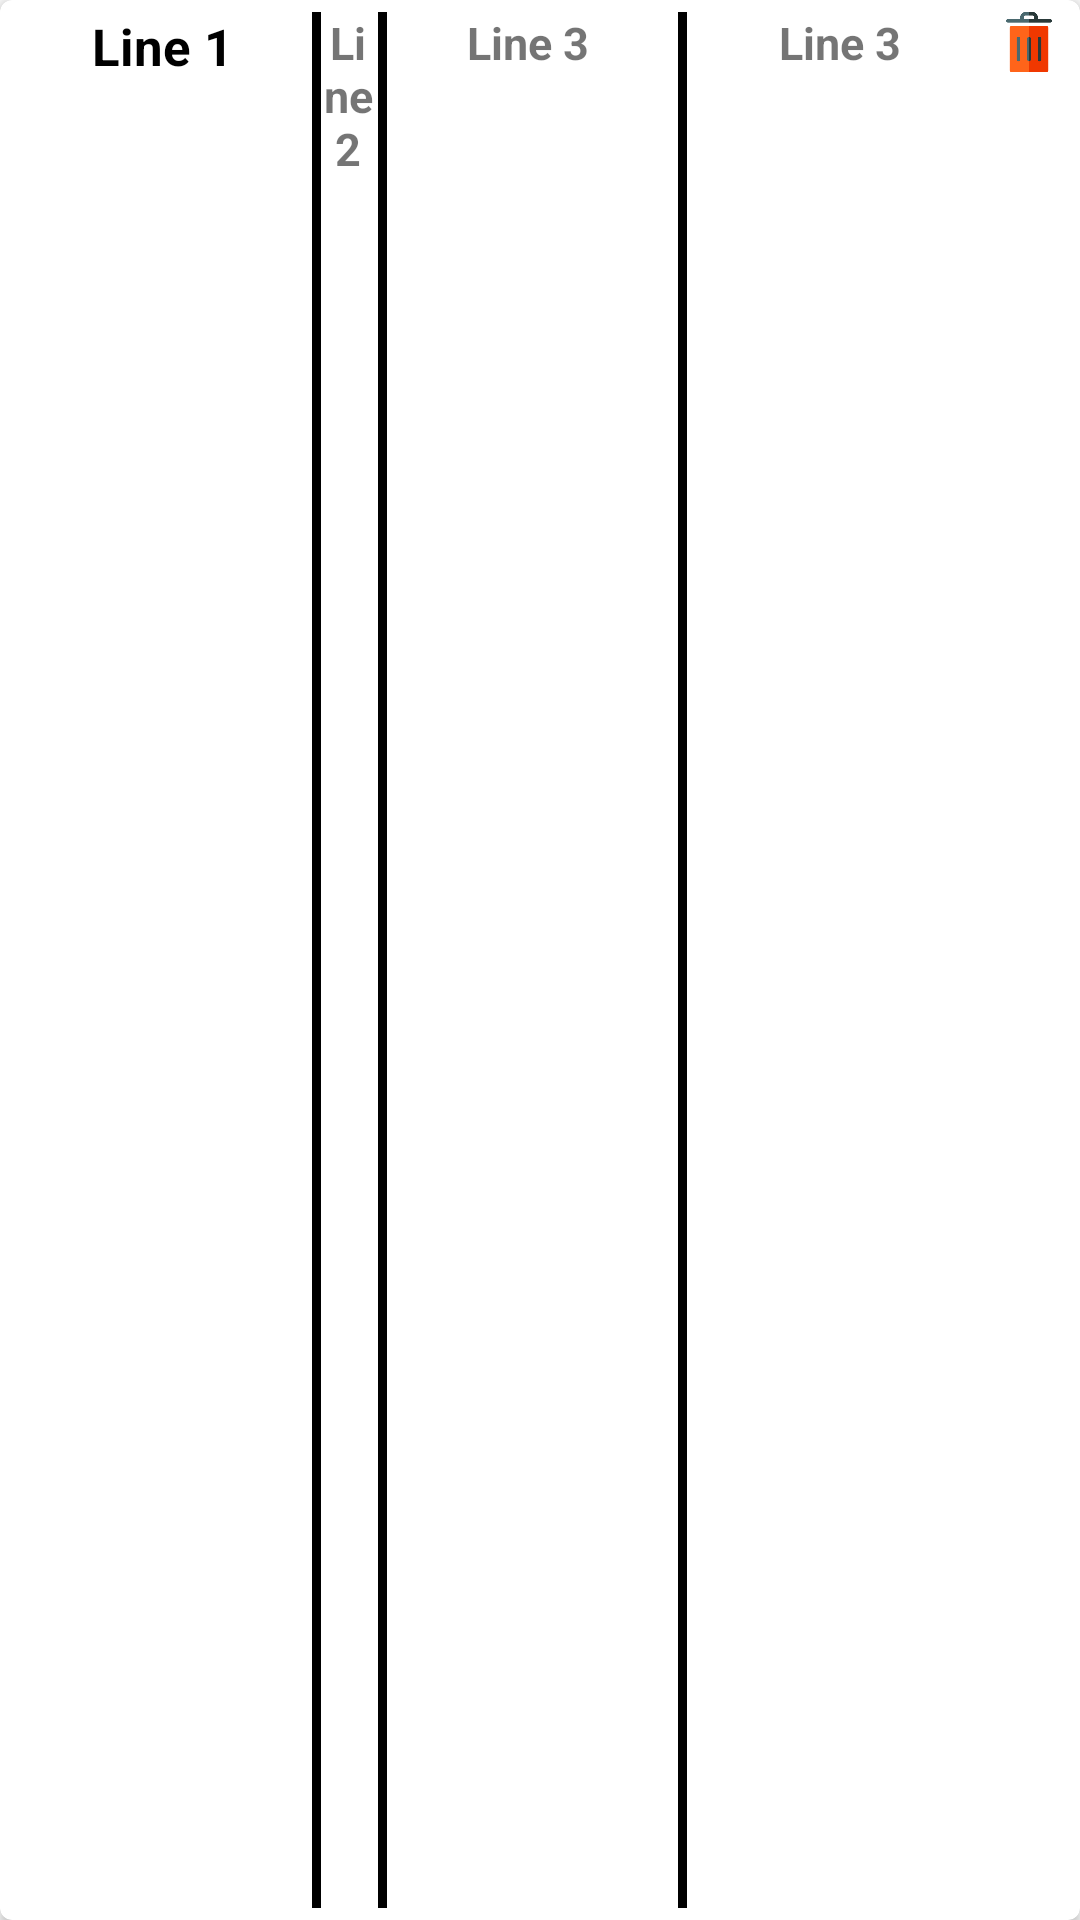

Where icons sit on this 1080*1920 app screen, as (x1, y1, x2, y2):
trash bin: (1006, 12, 1052, 72)
